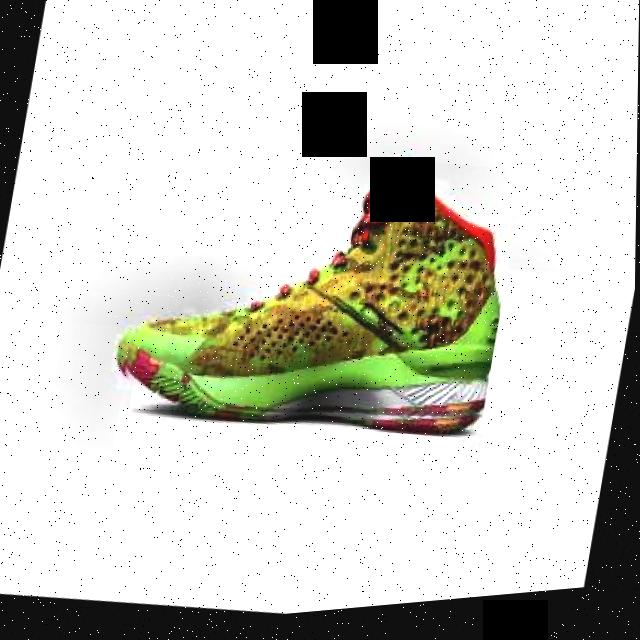shoe: (111, 121, 526, 469)
